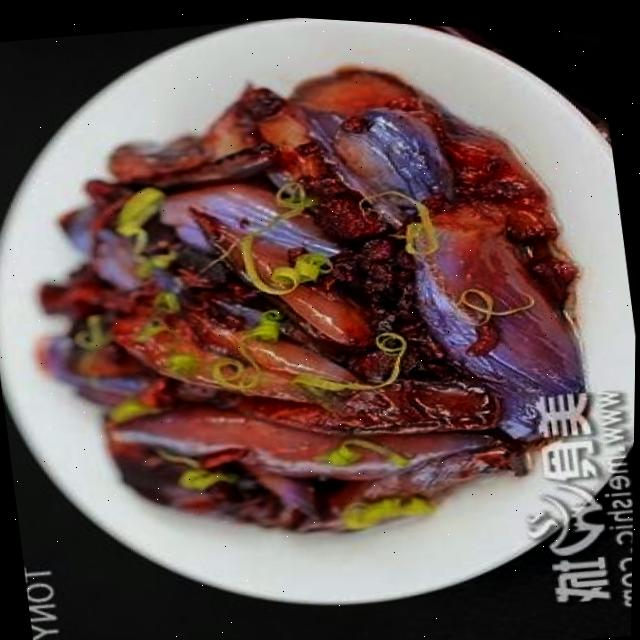鸡蛋料理: (0, 0, 627, 602)
